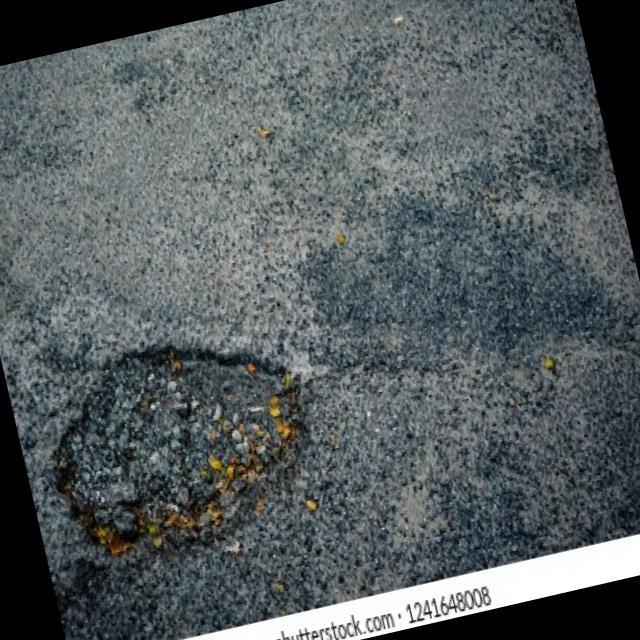Pothole: (27, 312, 329, 578)
